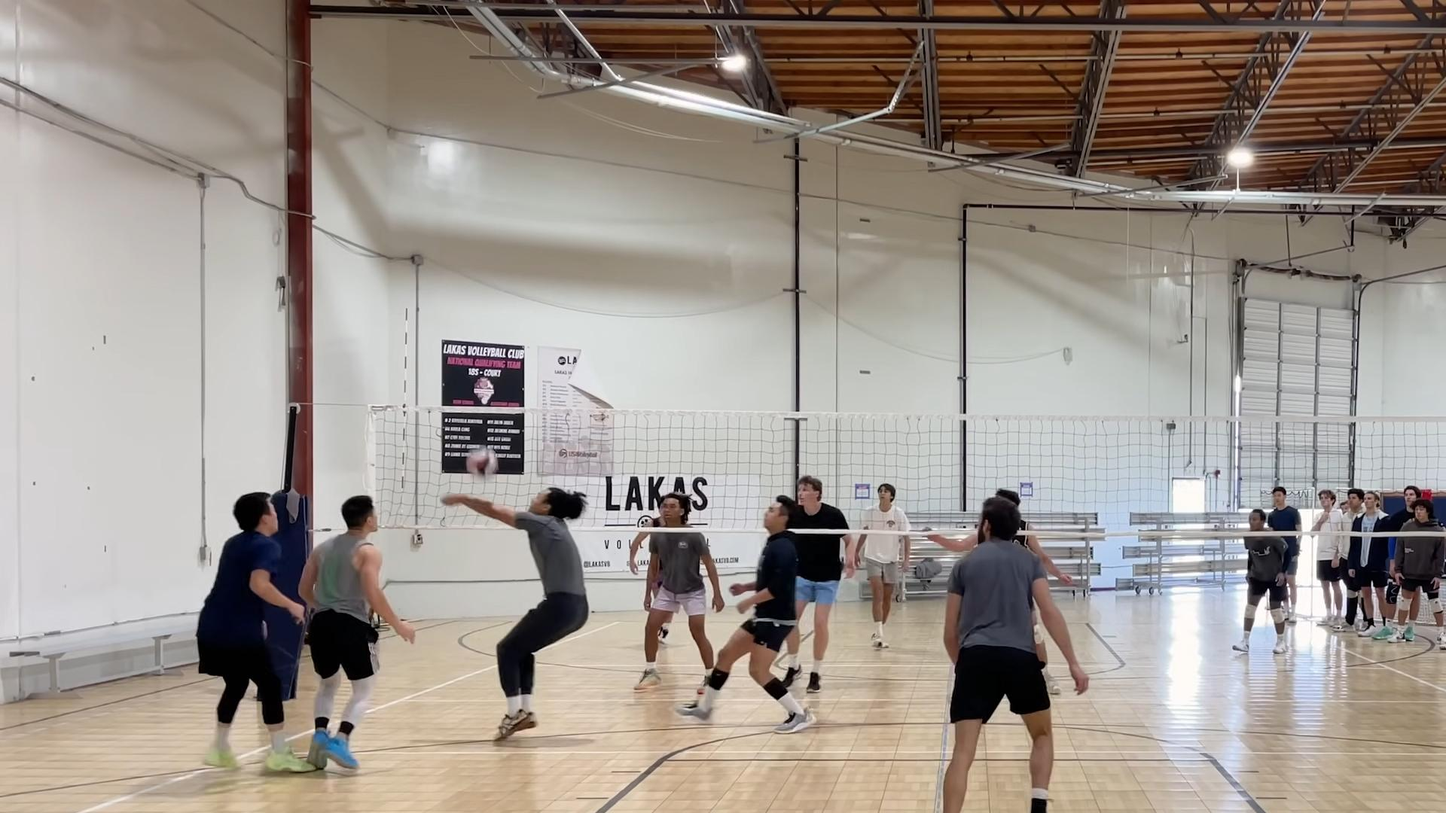Player: (942, 498, 1088, 812), (197, 493, 315, 772), (676, 495, 813, 733), (299, 495, 414, 768), (635, 533, 724, 692), (791, 476, 856, 692), (860, 483, 910, 647), (1232, 535, 1292, 653), (1033, 614, 1060, 694), (629, 530, 648, 574)
Set: (424, 478, 596, 769)
ball: (465, 443, 496, 478)
